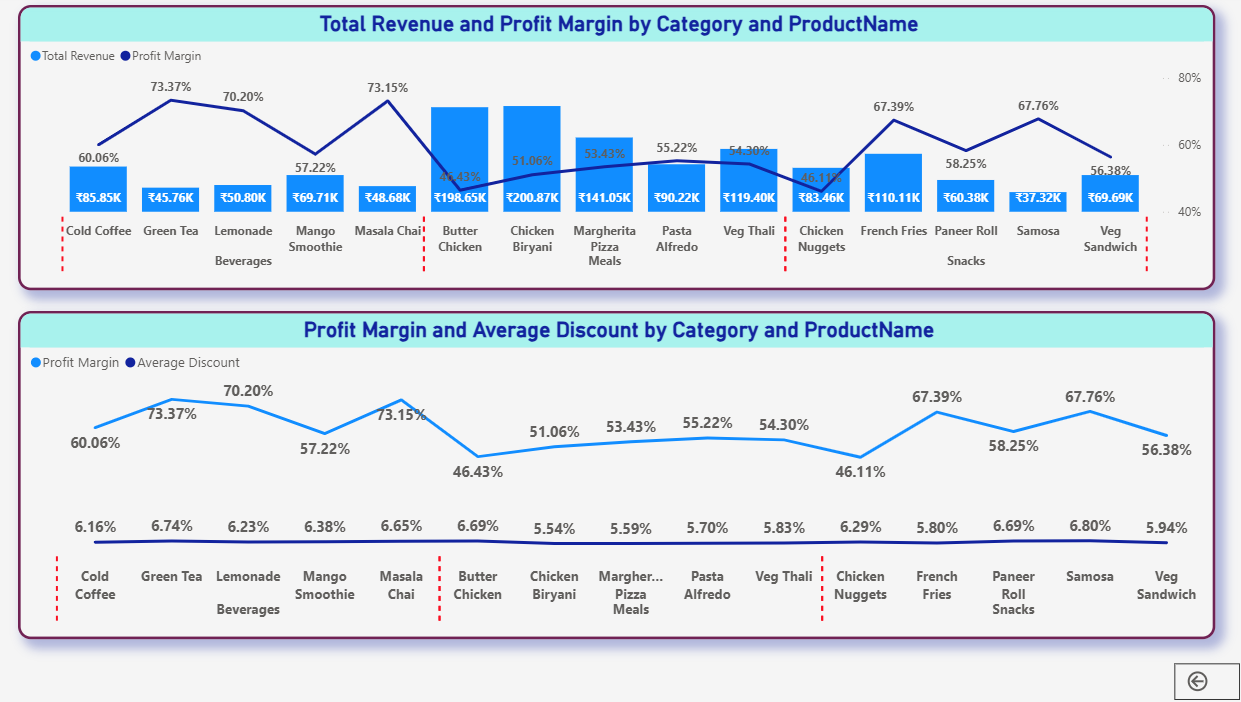

The page's visual inventory and layout, read from the dashboard file:
{"tool":"powerbi","page":{"name":"Product Analysis","canvas":[1280,720],"ordinal":1},"visuals":[{"type":"lineClusteredColumnComboChart","fields":{"Category":["tastybites_orders.Category","tastybites_orders.ProductName"],"Y":["tastybites_orders.Total Revenue"],"Y2":["tastybites_orders.Profit Margin"]},"box":[36.3,12.1,1208.3,287.7],"z":0},{"type":"lineChart","fields":{"Category":["tastybites_orders.Category","tastybites_orders.ProductName"],"Y":["tastybites_orders.Profit Margin","tastybites_orders.Average Discount"]},"box":[36.3,321,1208.3,331.6],"z":1000},{"type":"actionButton","box":[1204.2,676.7,65.8,36.5],"z":2000}]}

Visuals, with their boxes in screenshot pixels (x1, y1, x2, y2), scaled from the page's 1280x720 canvas onto the 1241x702 screenshot:
lineClusteredColumnComboChart - tastybites_orders.Category x tastybites_orders.ProductName: rect(35, 12, 1207, 292)
lineChart - tastybites_orders.Category x tastybites_orders.ProductName: rect(35, 313, 1207, 636)
actionButton: rect(1168, 660, 1231, 695)
